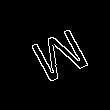M_SE: (20, 22, 90, 88)
